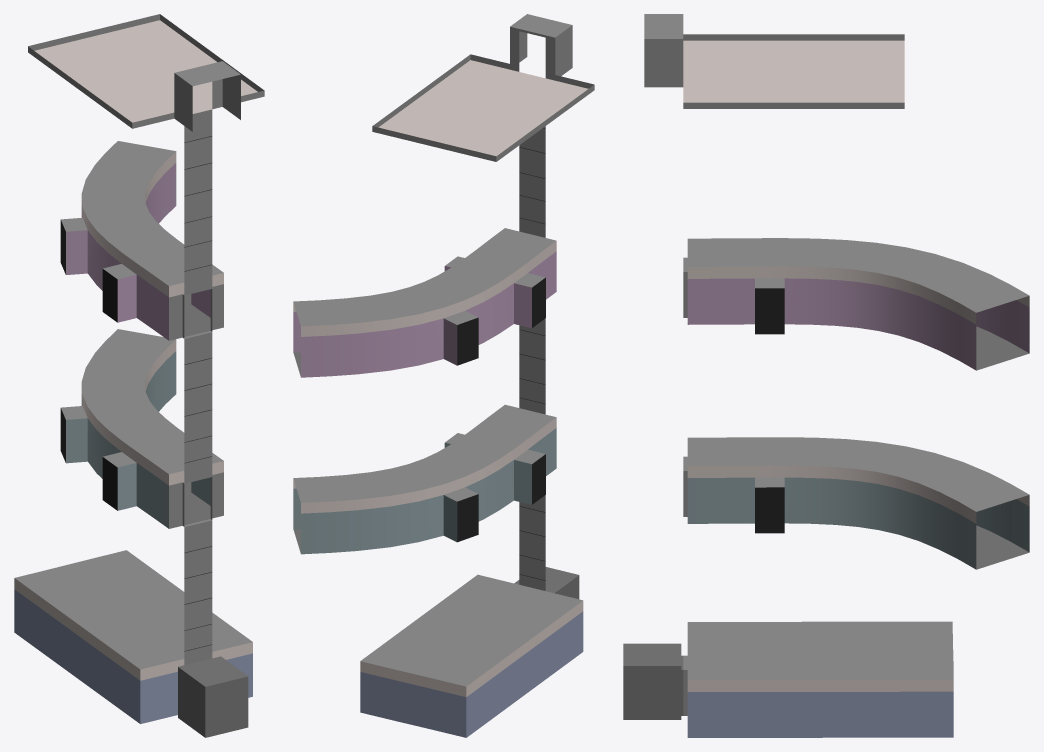
The model's file is Elevator_level 2.fbx.
3 renders of one model, left to right at view 1: azimuth 30°, elevation 25°; view 2: azimuth 150°, elevation 25°; view 3: azimuth 270°, elevation 25°, orthographic. The views are drawn at different scales.
Visible parts, largest first — view 1: 3rd floor, Elevator; view 2: 3rd floor, Elevator; view 3: 3rd floor, Elevator.
Boxes of the visible parts, bbox=[...] form: 3rd floor: bbox=[14, 14, 264, 723]; Elevator: bbox=[178, 656, 248, 737]; 3rd floor: bbox=[293, 14, 594, 737]; Elevator: bbox=[514, 567, 579, 599]; 3rd floor: bbox=[644, 14, 1029, 737]; Elevator: bbox=[623, 643, 683, 719].
Size of the model in its own units: 1380 by 4662 by 2517.
